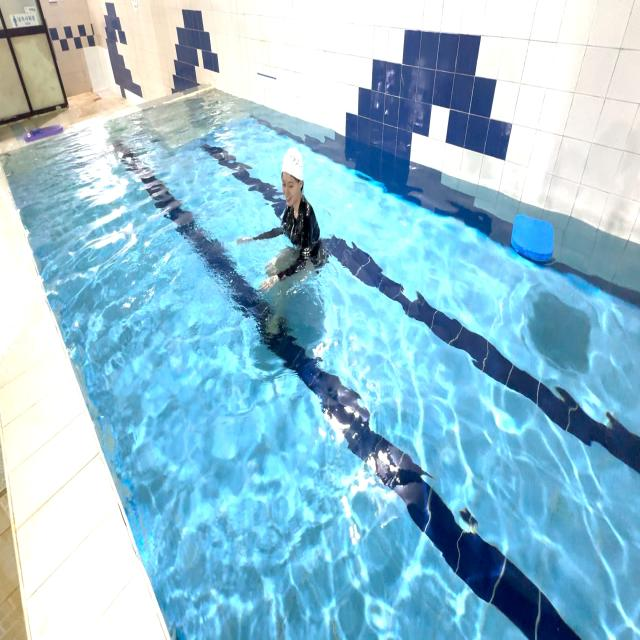Swimming: (218, 105, 358, 361)
